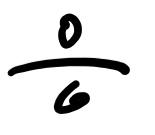div: (6, 14, 130, 114)
